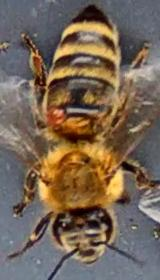varroa_mite: (41, 97, 70, 130)
